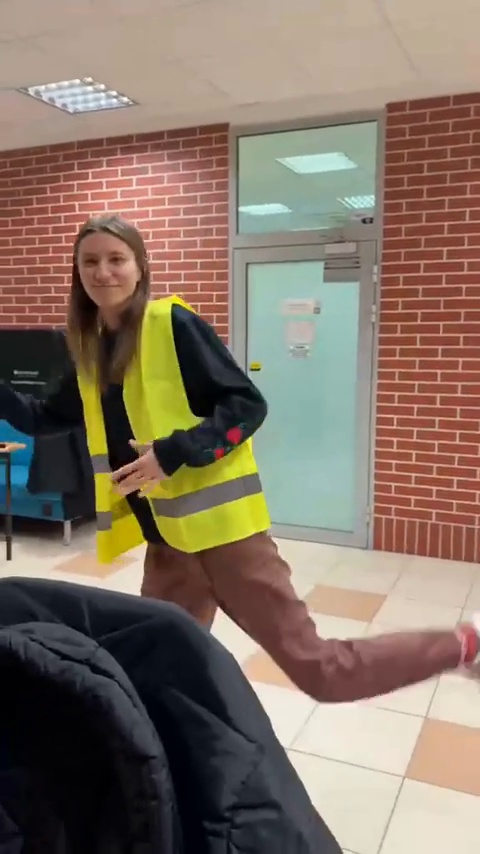vest: (56, 201, 339, 707)
